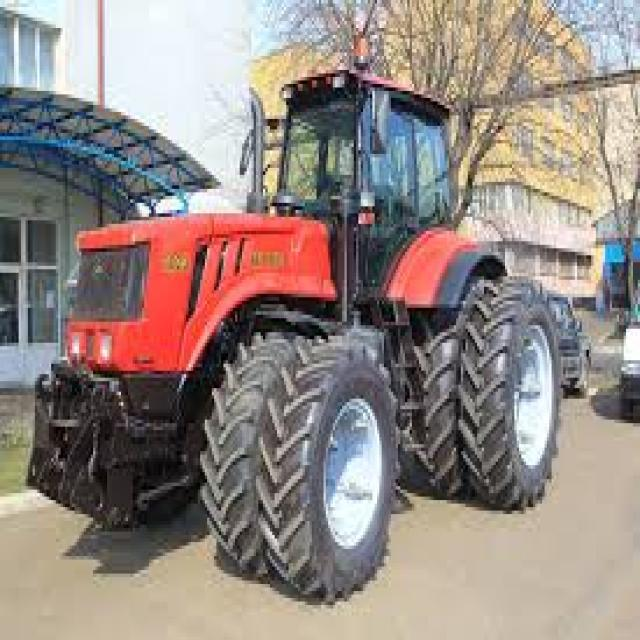Tratores - v5 YOLO V8L 2024-11-13: (62, 66, 560, 602)
